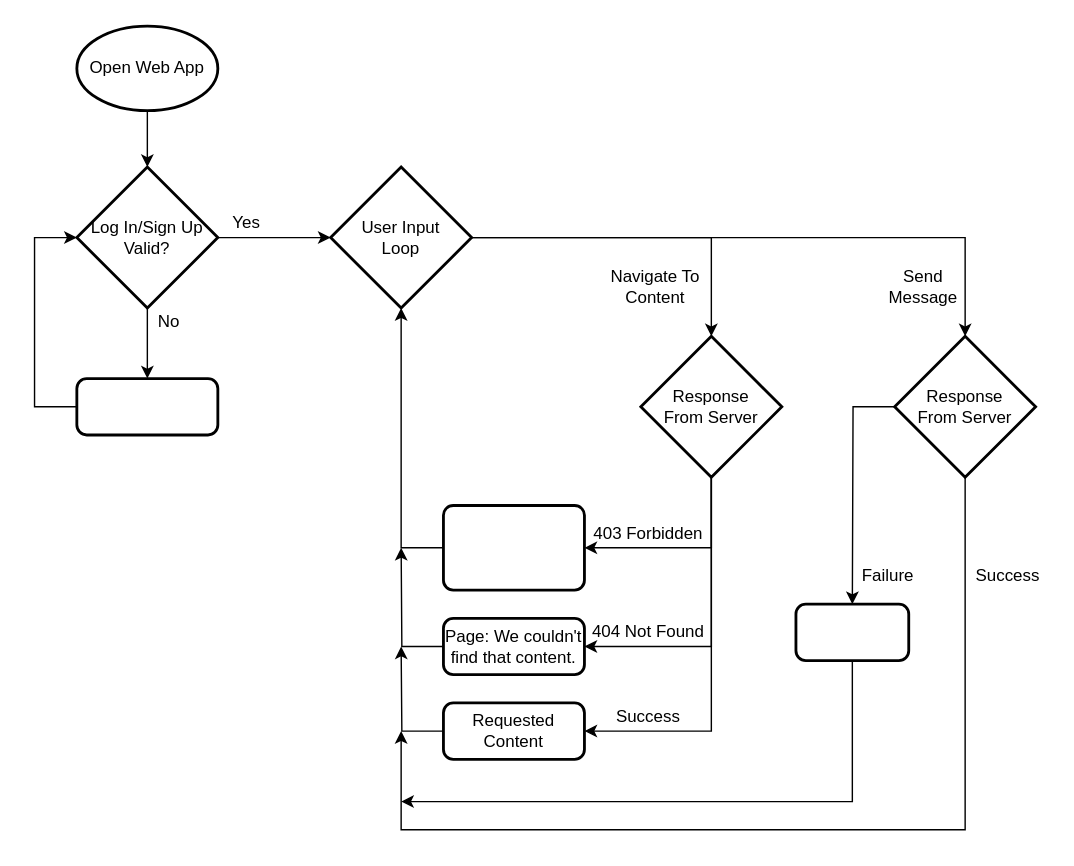
This 1074x866 diagram has some shape labels left out. Each missing label, with the centre of its shape:
"Display Form Errors" goes at [147,406].
"Page: Seems you don't have access to that." goes at [513,547].
"Show Error Message" goes at [851,631].
